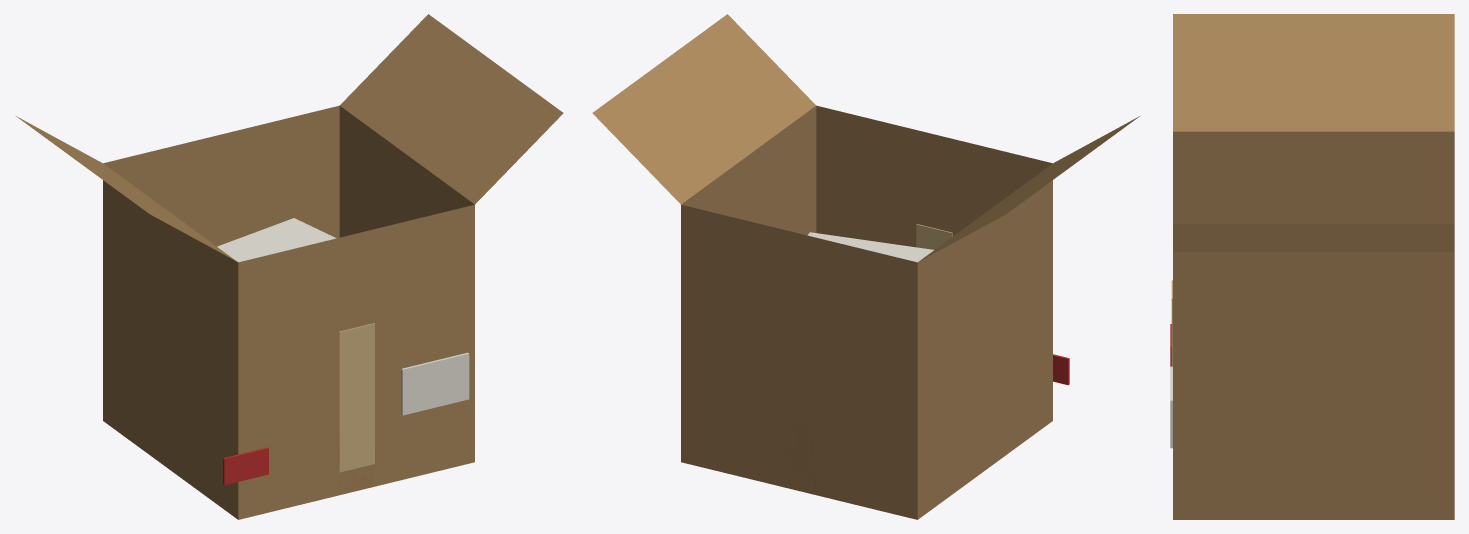
File: cardboardBoxOpen.glb
3 views of the same model, side by side, from view 1: azimuth 30°, elevation 25°; view 2: azimuth 150°, elevation 25°; view 3: azimuth 270°, elevation 25° (orthographic). The views are drawn at different scales.
Visible parts, largest first — view 1: cardboardBoxOpen(Clone); view 2: cardboardBoxOpen(Clone); view 3: cardboardBoxOpen(Clone).
Part boxes in pixels (x1=…): cardboardBoxOpen(Clone): x1=16, y1=14, x2=563, y2=519; cardboardBoxOpen(Clone): x1=592, y1=14, x2=1139, y2=519; cardboardBoxOpen(Clone): x1=1170, y1=14, x2=1454, y2=519.
Size of the model in its own units: 0.3719 by 0.281 by 0.2125.
